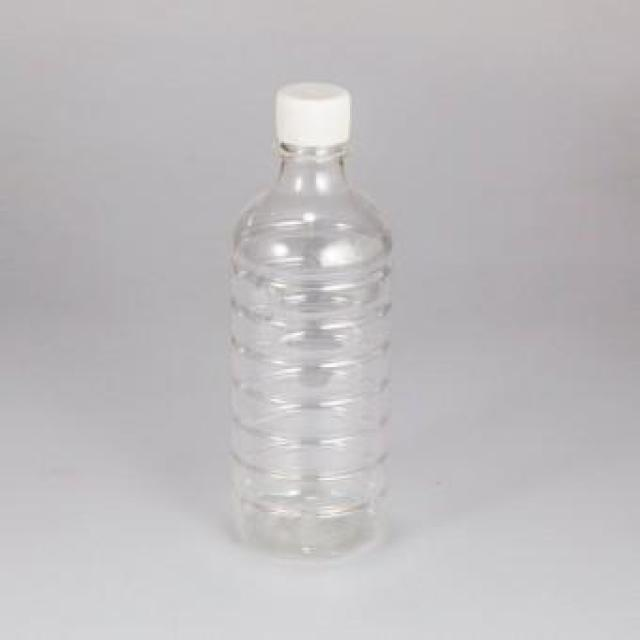bottle: (222, 81, 395, 555)
